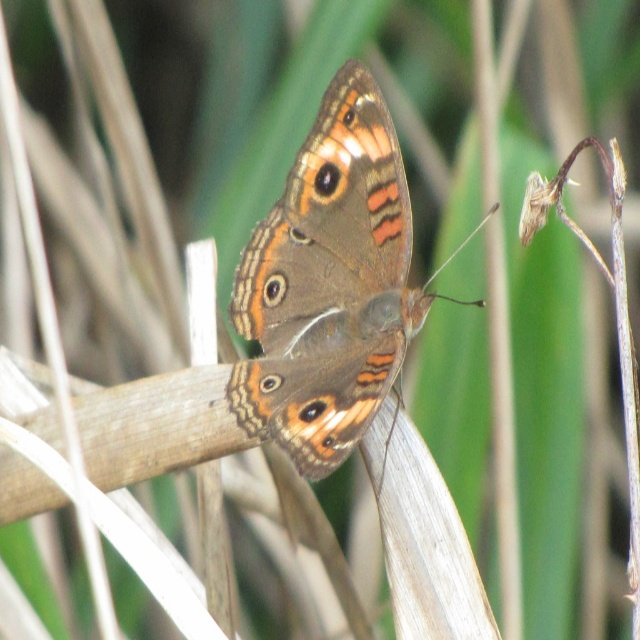Butterfly: (183, 64, 492, 502)
